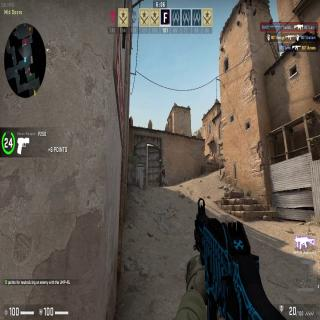CT-Body: (161, 166, 165, 186)
CT-Head: (162, 165, 164, 169)
